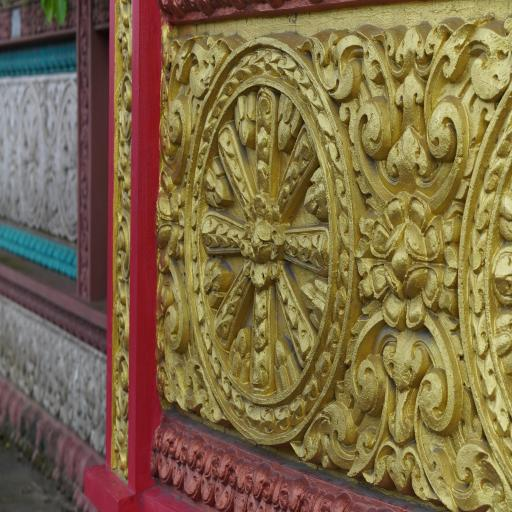hoa: (180, 39, 362, 454), (348, 304, 469, 499), (462, 64, 512, 494), (48, 81, 94, 251), (15, 80, 49, 236)
la: (341, 38, 498, 216)
